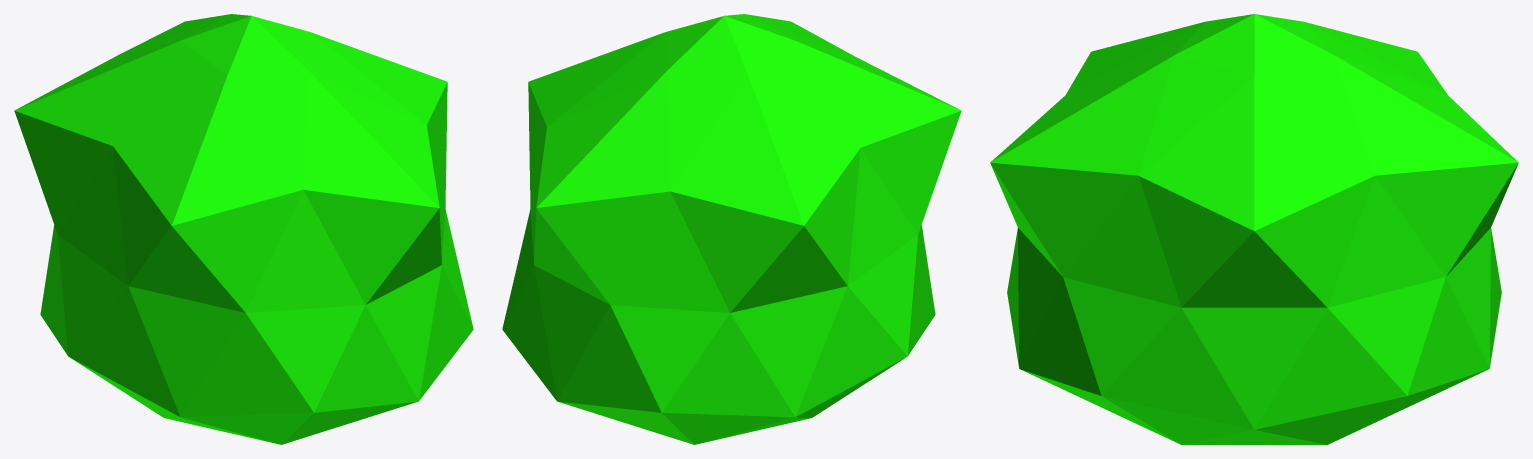
Rendered from SusanPollen.fbx.
3 renders of one model, left to right at view 1: azimuth 30°, elevation 25°; view 2: azimuth 150°, elevation 25°; view 3: azimuth 270°, elevation 25°, orthographic. The views are drawn at different scales.
Visible parts, largest first — view 1: Icosphere; view 2: Icosphere; view 3: Icosphere.
Boxes of the visible parts, left/top/right/bottom form: Icosphere: left=14, top=14, right=473, bottom=444; Icosphere: left=502, top=14, right=961, bottom=444; Icosphere: left=990, top=14, right=1518, bottom=444.
Size of the model in its own units: 116 by 112 by 135.
